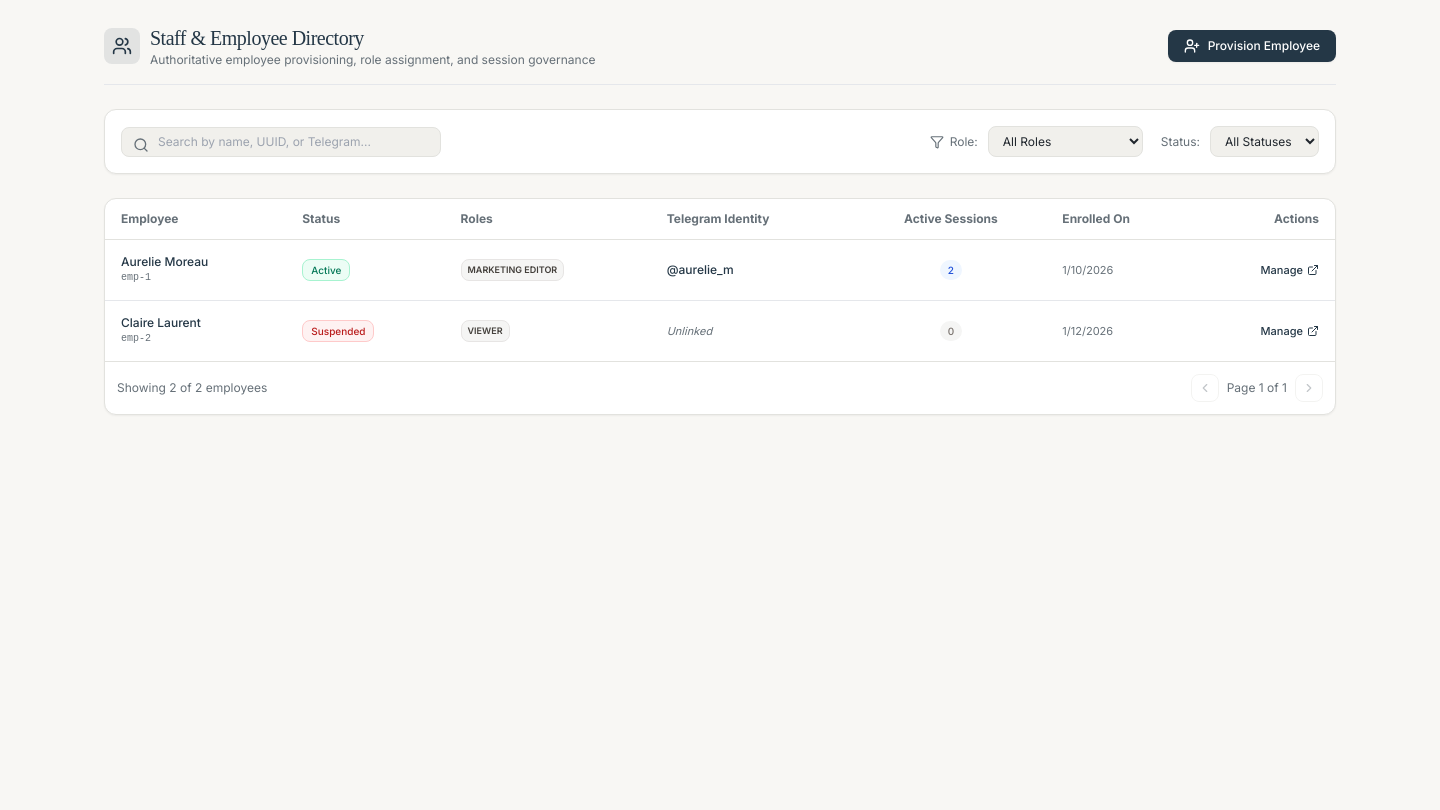
Test: Admin Web Feature Suite (ADMIN-01 to ADMIN-20 UI) › provisions a new employee via modal and displays the one-time token
Click the button "Provision Employee": (1252, 46) [1168,30,1336,62]
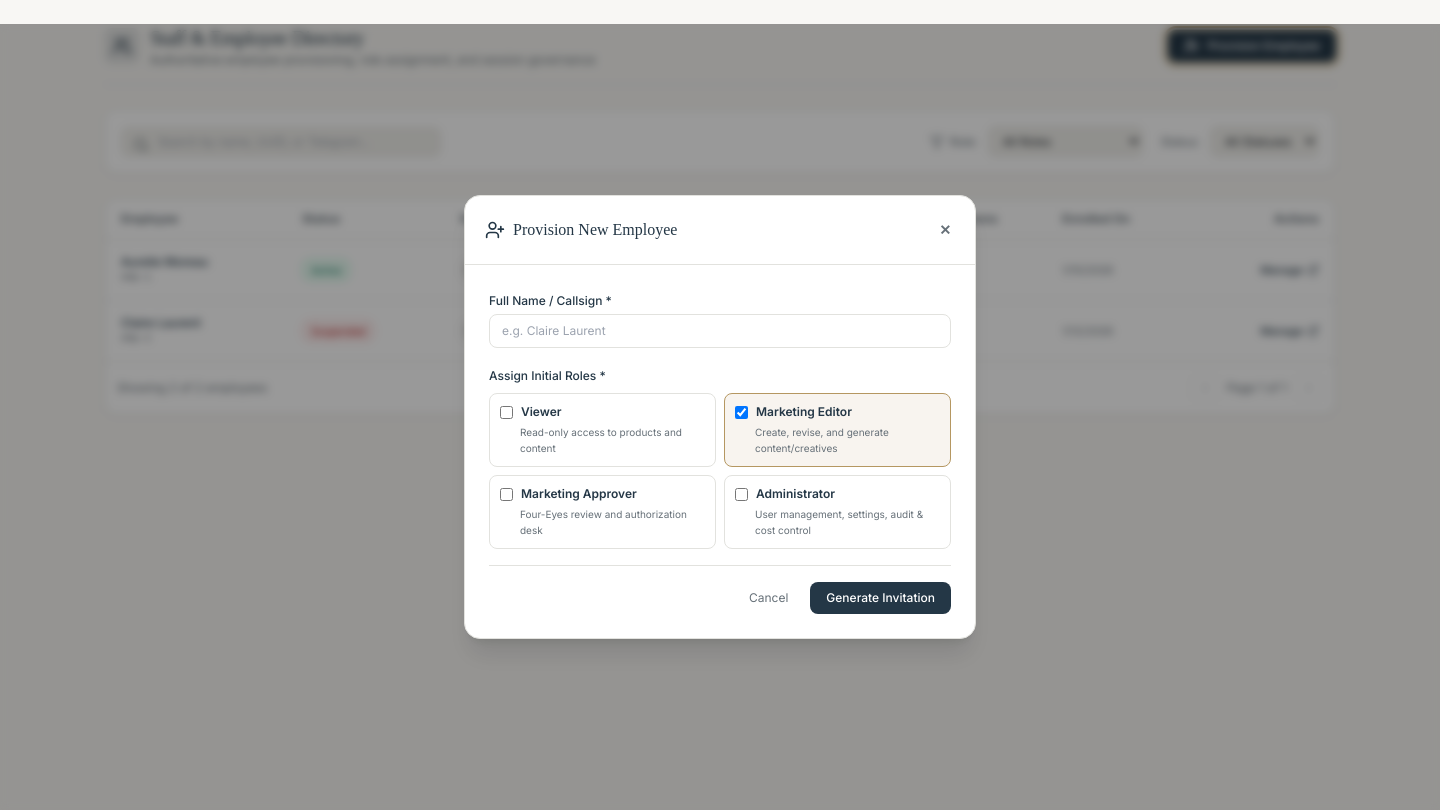
Expected: the heading "Provision New Employee" is shown, [513,218,677,242]
In the field with placeholder "e.g. Claire Laurent": (720, 331) [489,314,951,348], type "Alexandre Dumas"
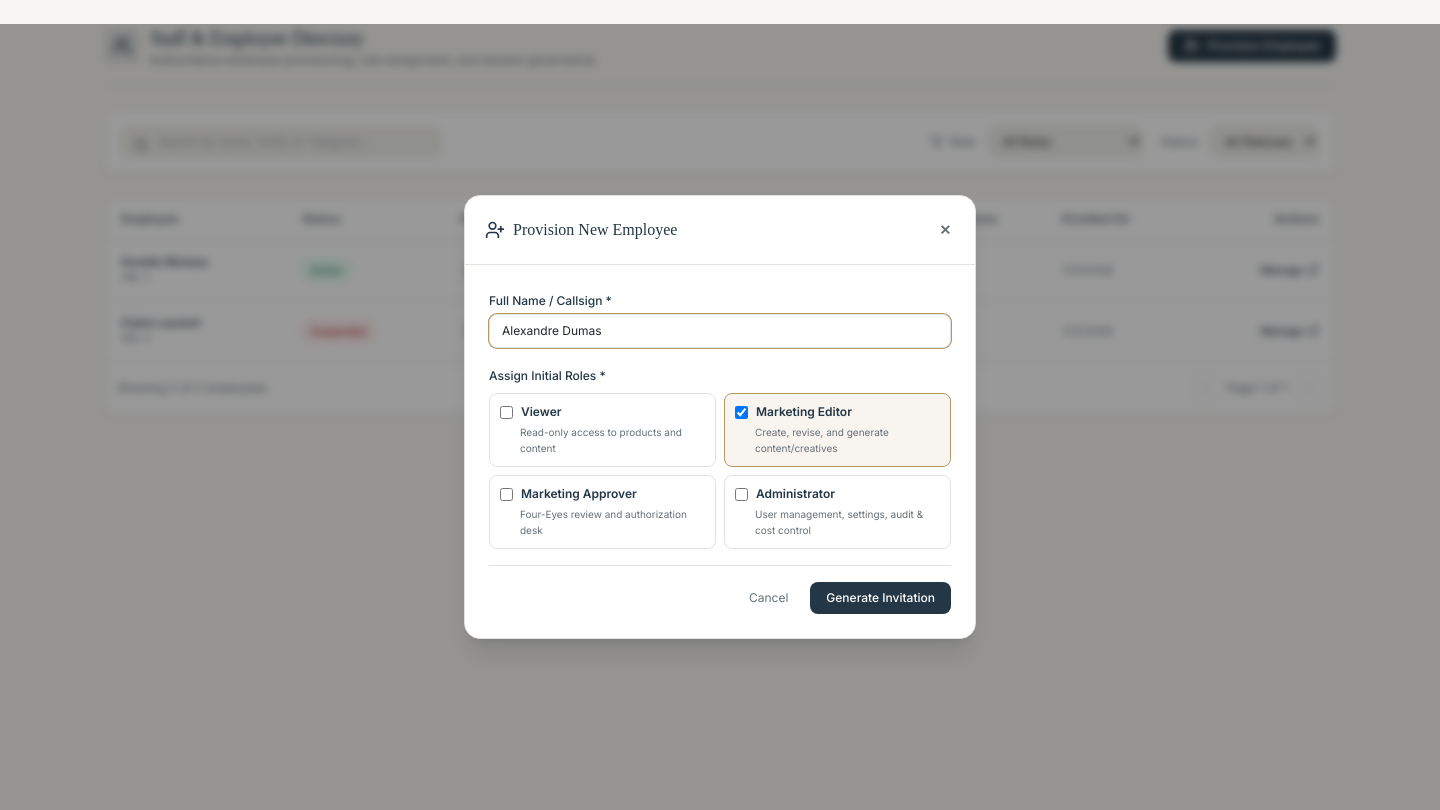
Click the button "Generate Invitation": (881, 598) [810,582,951,614]
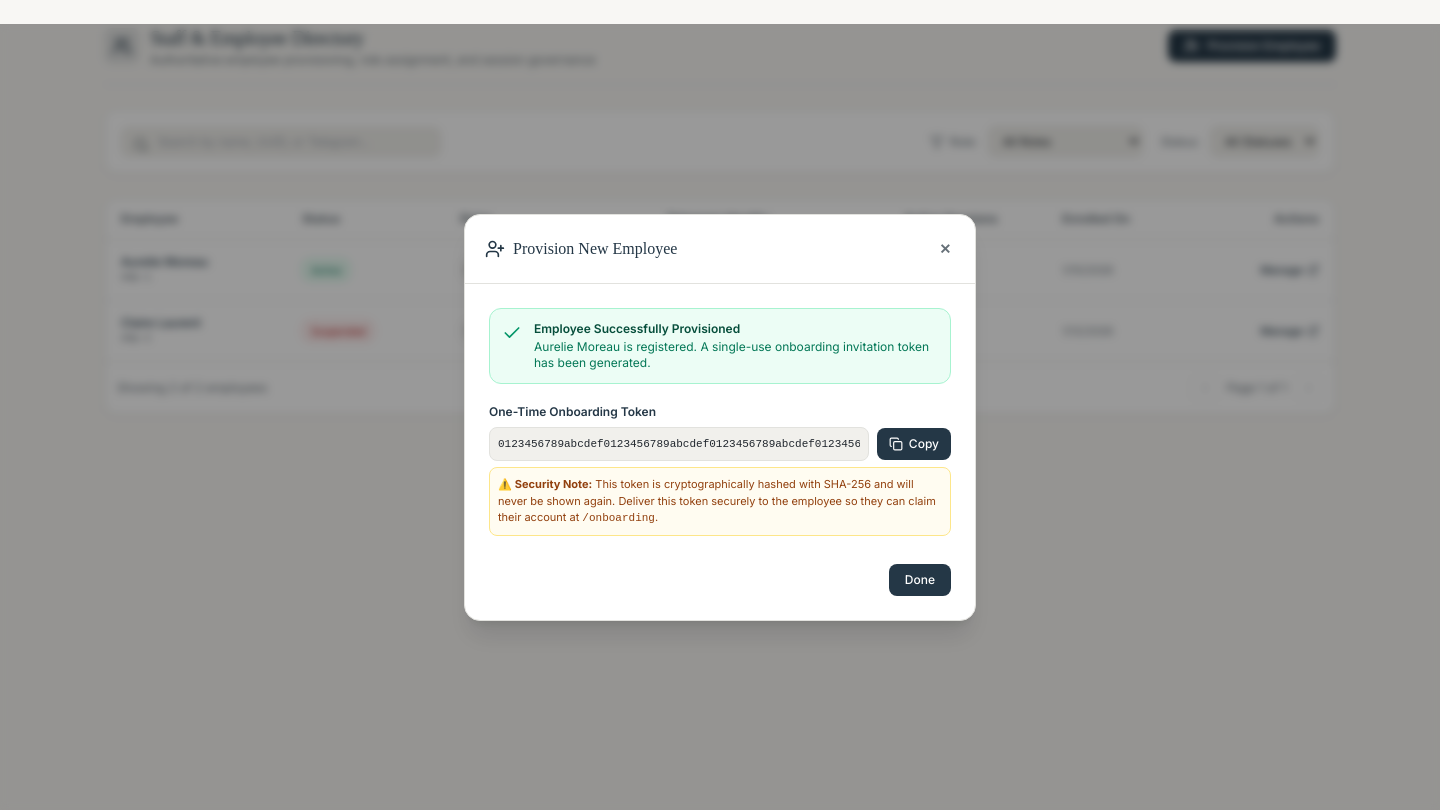
Expected: the text "Employee Successfully Provisioned" is shown, [534,320,740,336]
Expected: the field showing "0123456789abcdef" is shown, [489,426,869,461]
